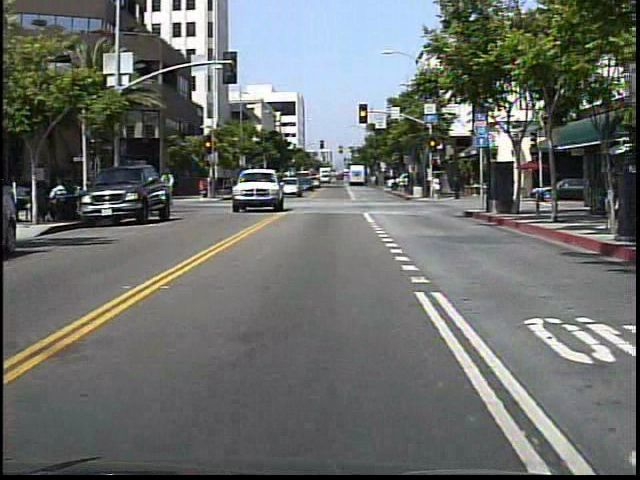person: (157, 169, 179, 204), (450, 172, 465, 205), (430, 176, 443, 199), (200, 175, 210, 199)
